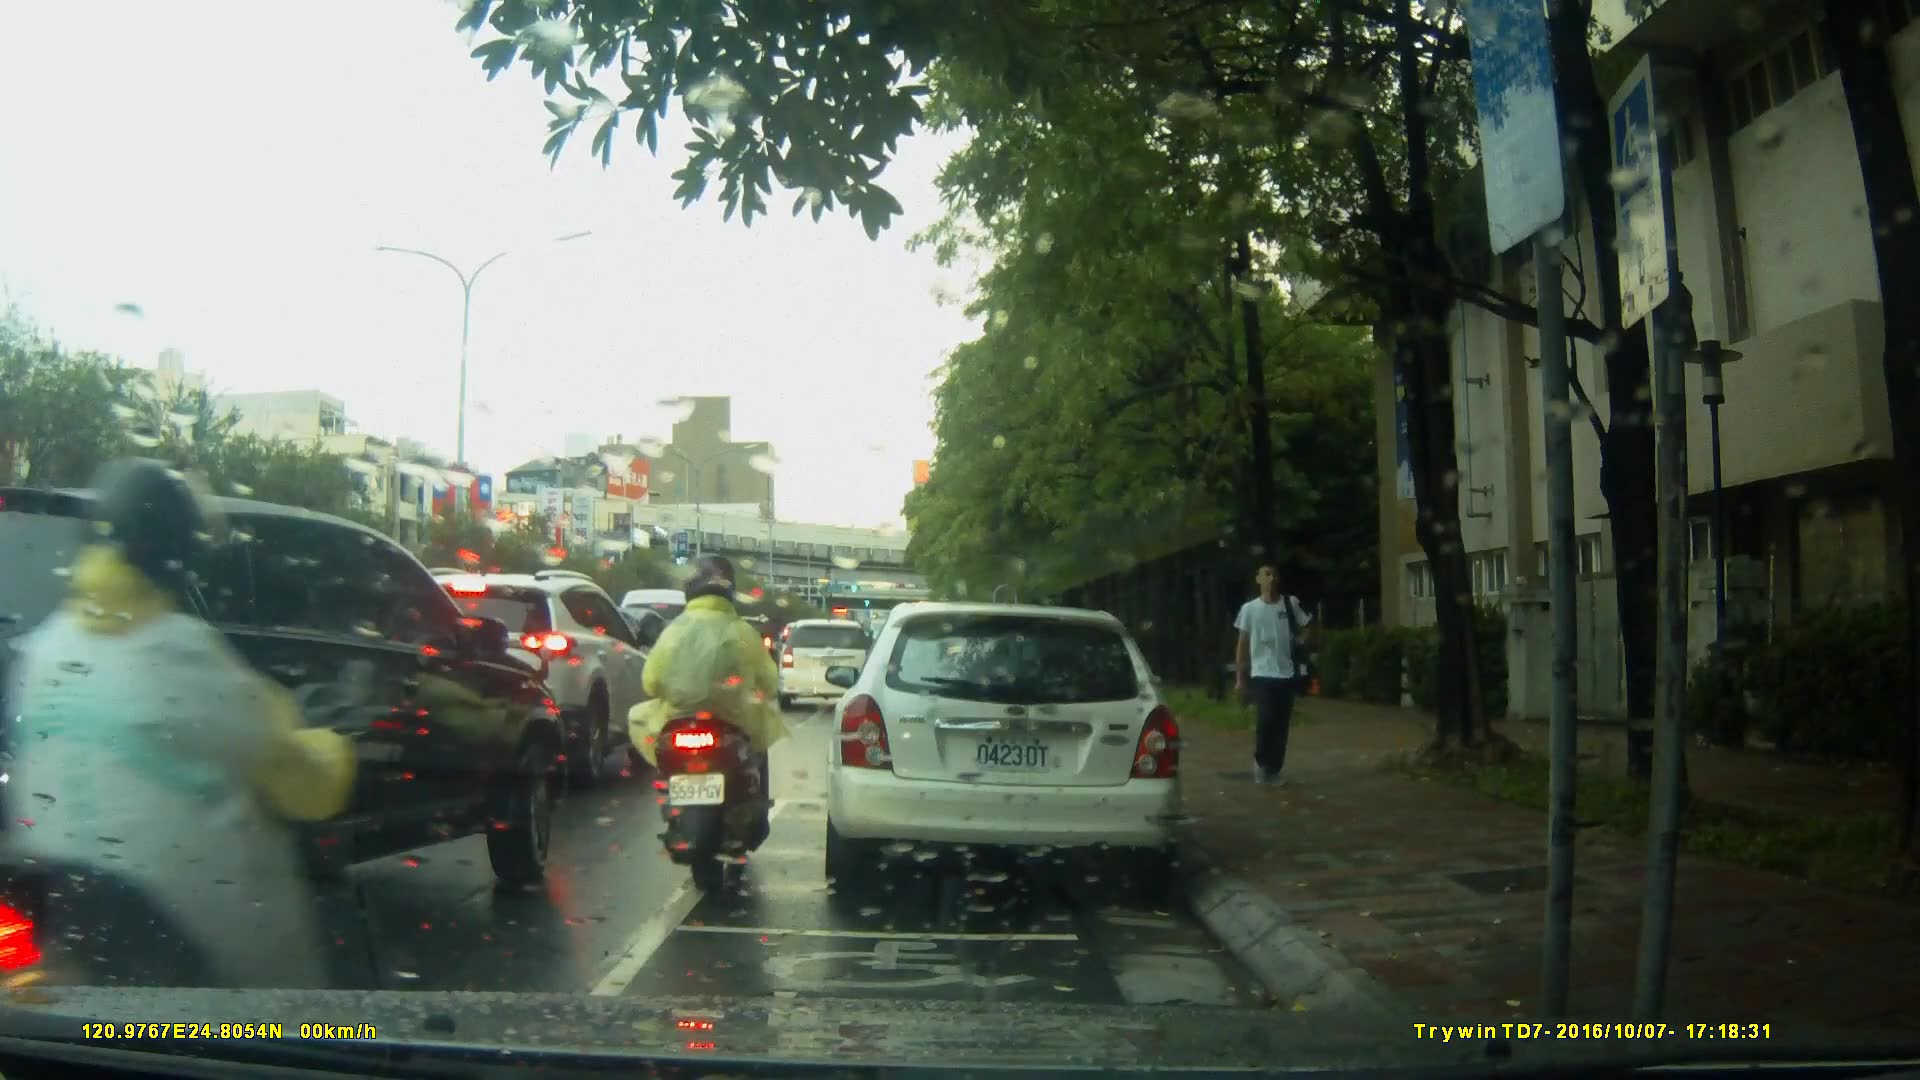pedestrian: (1224, 559, 1320, 802)
rider: (1, 466, 360, 1058), (641, 554, 793, 889)
vehicle: (1, 479, 570, 974), (820, 602, 1188, 898), (360, 566, 668, 784), (611, 587, 731, 717), (771, 617, 881, 711)
